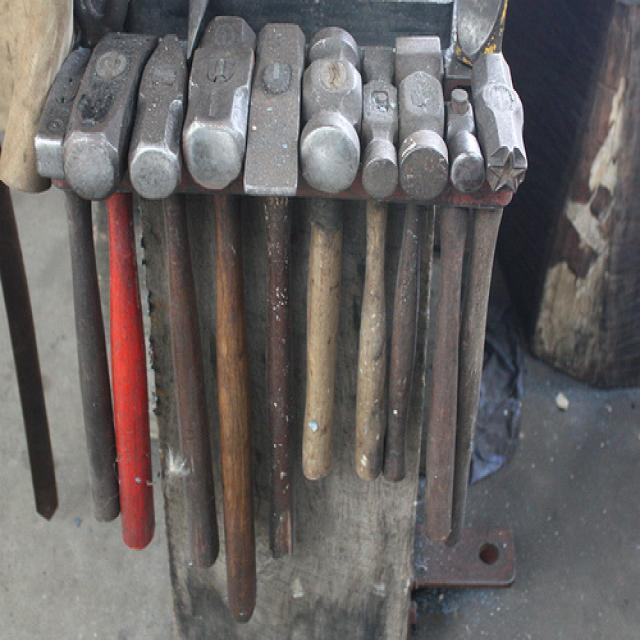hammer: (177, 10, 258, 624), (69, 21, 151, 552), (240, 16, 311, 568), (464, 49, 540, 556), (124, 29, 188, 600), (296, 18, 368, 492), (48, 42, 109, 596), (383, 26, 451, 486), (357, 38, 405, 498), (442, 79, 486, 559)
